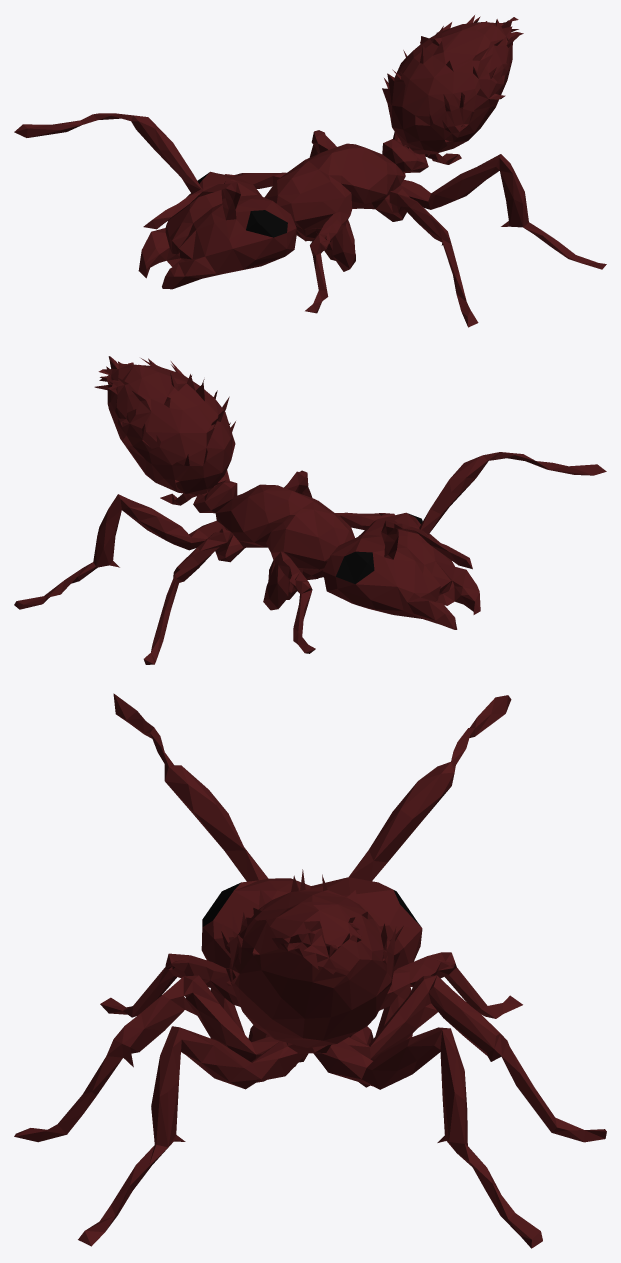
The model's file is FormigaTropa1.fbx.
3 renders of one model, top to bottom at view 1: azimuth 30°, elevation 25°; view 2: azimuth 150°, elevation 25°; view 3: azimuth 270°, elevation 25°, orthographic. The views are drawn at different scales.
Parts seen in each view (by area): view 1: tmp1kdgck4y.ply; view 2: tmp1kdgck4y.ply; view 3: tmp1kdgck4y.ply.
Part boxes in pixels (left/top/right/bottom): tmp1kdgck4y.ply: left=14, top=15, right=606, bottom=327; tmp1kdgck4y.ply: left=14, top=356, right=606, bottom=664; tmp1kdgck4y.ply: left=14, top=693, right=606, bottom=1248.
Size of the model in its own units: 87.28 by 199 by 148.
